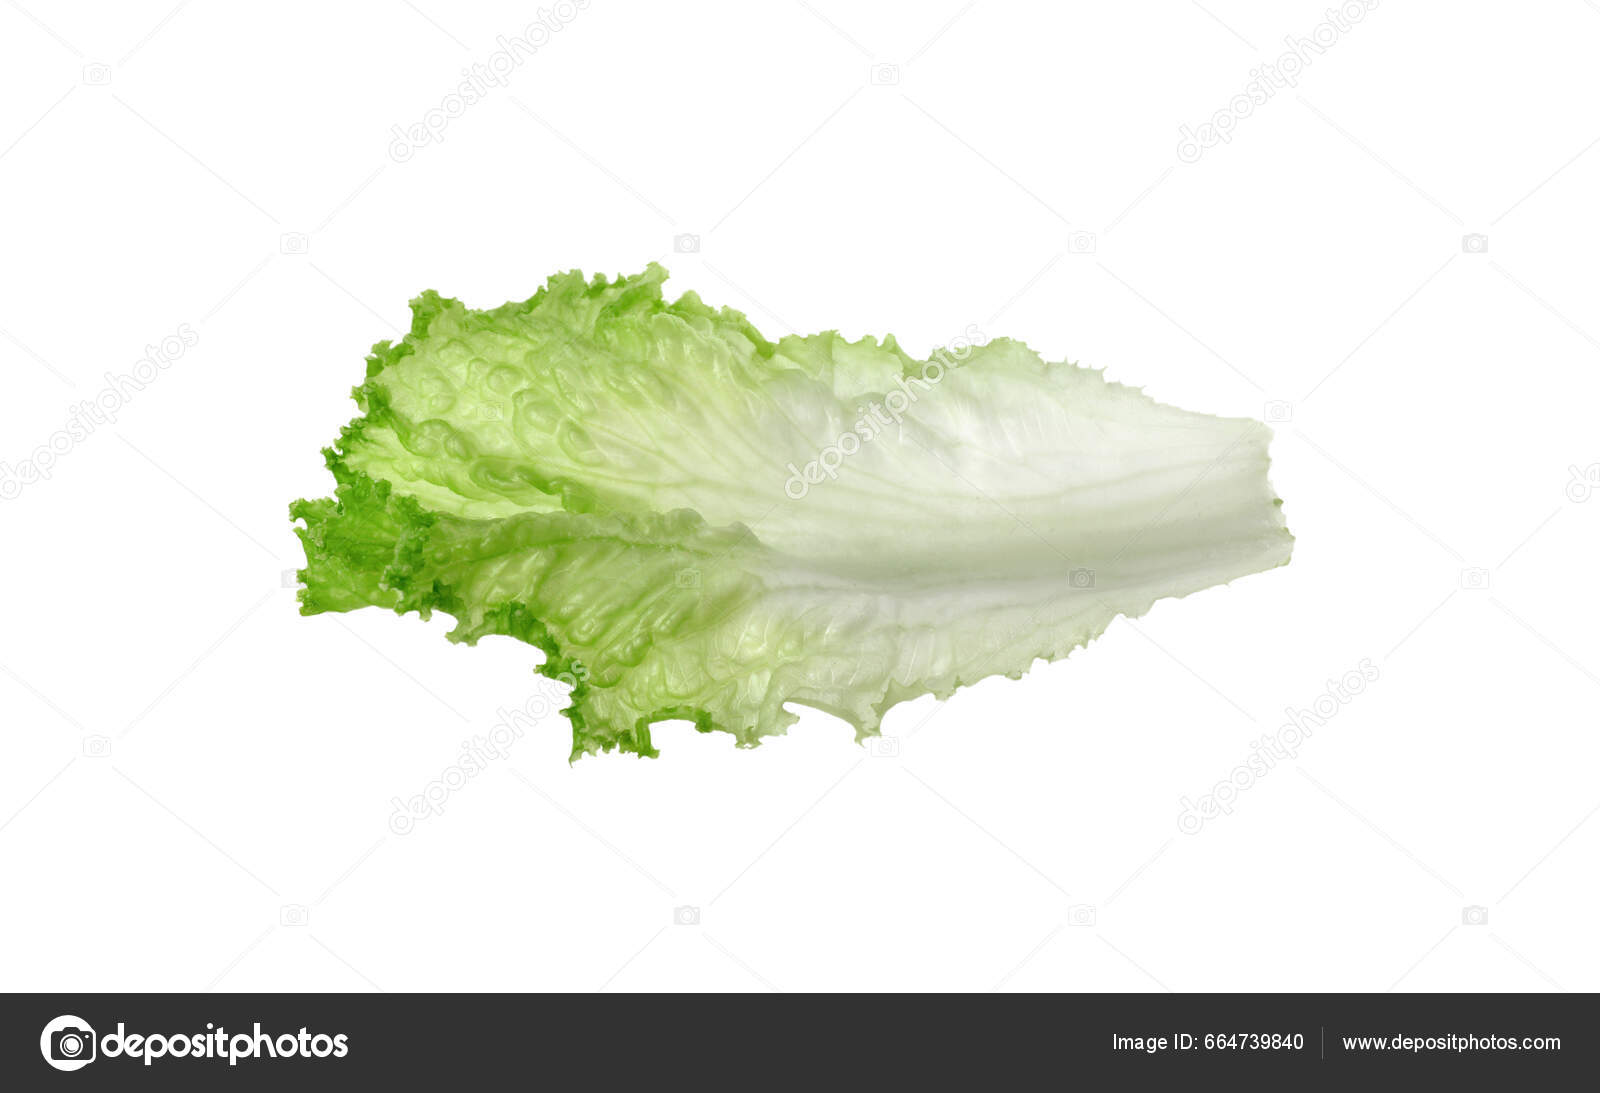lettuce: (326, 119, 1384, 809)
